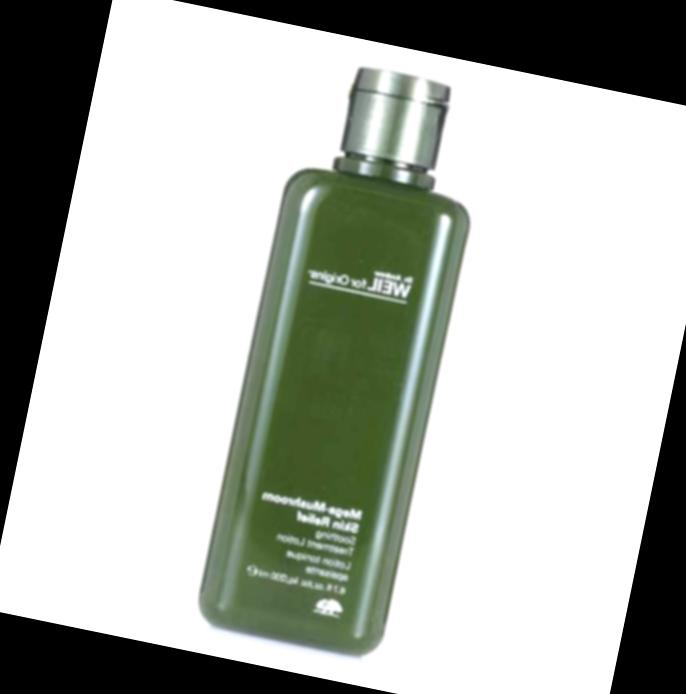cosmetic: (190, 47, 501, 666)
